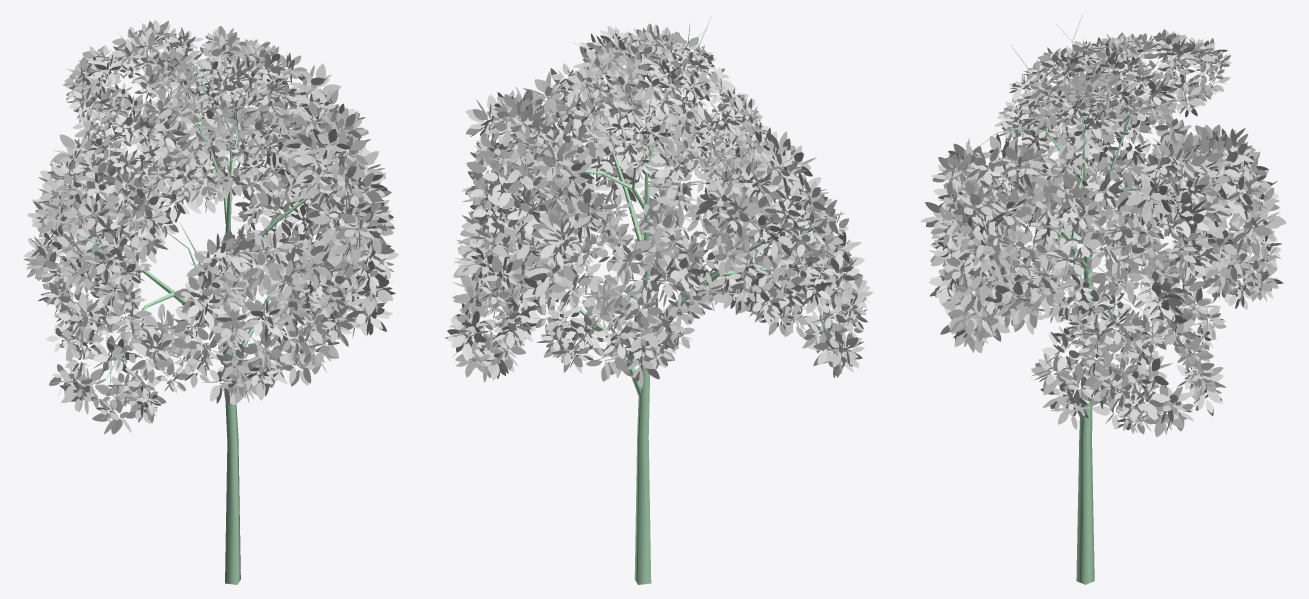
Rendered from Tree.fbx.
3 views of the same model, side by side, from view 1: azimuth 30°, elevation 25°; view 2: azimuth 150°, elevation 25°; view 3: azimuth 270°, elevation 25° (orthographic). The views are drawn at different scales.
Visible parts, largest first — view 1: Batang; view 2: Batang; view 3: Batang.
Boxes of the visible parts, left/top/right/bottom form: Batang: left=23, top=19, right=398, bottom=584; Batang: left=445, top=16, right=873, bottom=584; Batang: left=920, top=14, right=1286, bottom=584.
Bounding box in the file's own units: 465 × 662 × 421.
